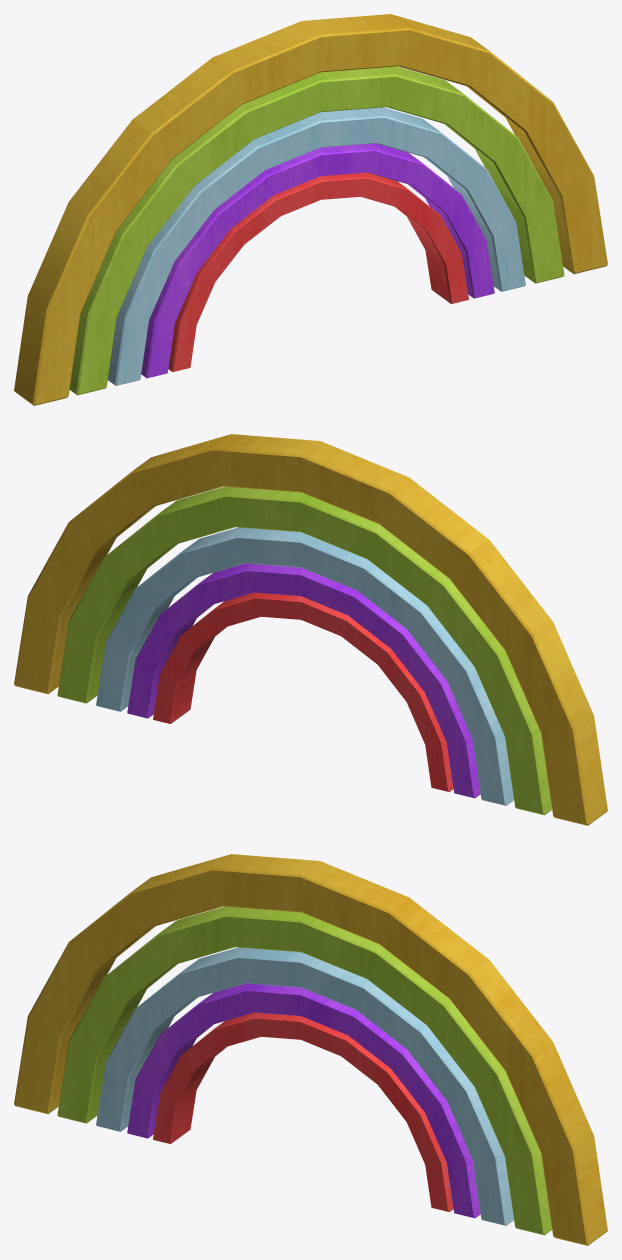
Rendered from rainbow.fbx.
3 renders of one model, top to bottom at view 1: azimuth 30°, elevation 25°; view 2: azimuth 150°, elevation 25°; view 3: azimuth 330°, elevation 25°, orthographic.
Visible parts, largest first — view 1: rainbow; view 2: rainbow; view 3: rainbow.
Part boxes in pixels (x1,y1,x2,y2): rainbow: [14, 14, 607, 405]; rainbow: [14, 434, 607, 825]; rainbow: [14, 854, 607, 1245].
Bounding box in the file's own units: 3.28 × 1.64 × 0.2046.
